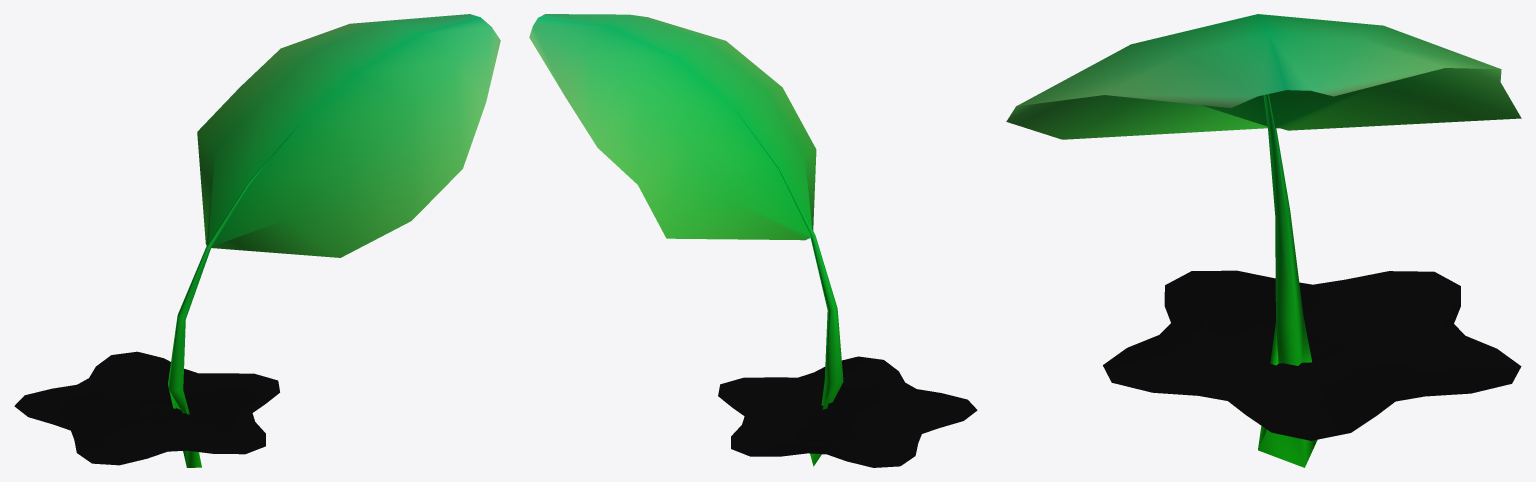
Rendered from Fern 5.fbx.
The picture shows the model from 3 angles, left to right: view 1: azimuth 30°, elevation 25°; view 2: azimuth 150°, elevation 25°; view 3: azimuth 270°, elevation 25°; orthographic projection. The views are drawn at different scales.
Visible parts, largest first — view 1: _0.005; view 2: _0.005; view 3: _0.005.
Boxes of the visible parts, bbox=[...] form: _0.005: bbox=[14, 14, 500, 467]; _0.005: bbox=[529, 14, 977, 467]; _0.005: bbox=[1006, 14, 1521, 467].
Bounding box in the file's own units: 0.5012 × 0.7329 × 0.6444.
